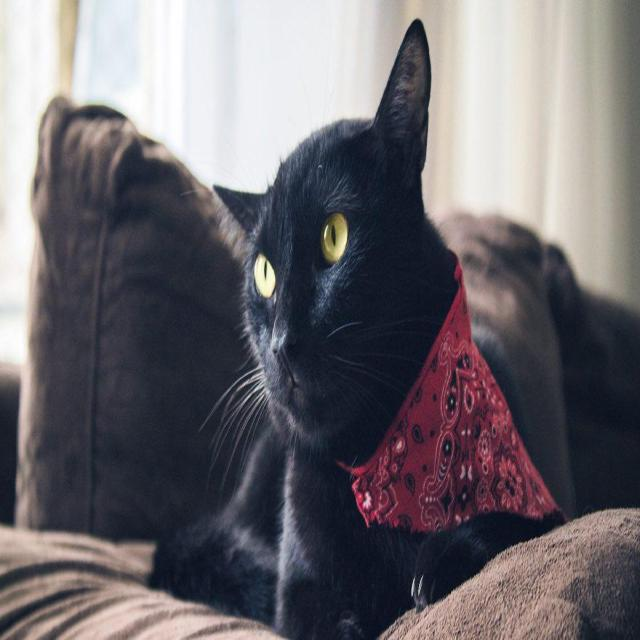Cat: (210, 13, 456, 471)
